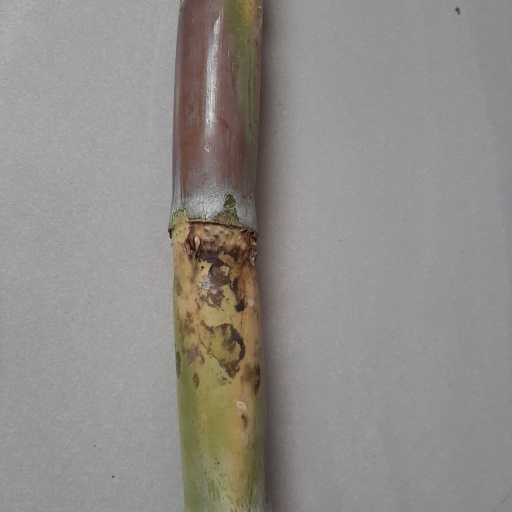Bud: (186, 230, 202, 260)
